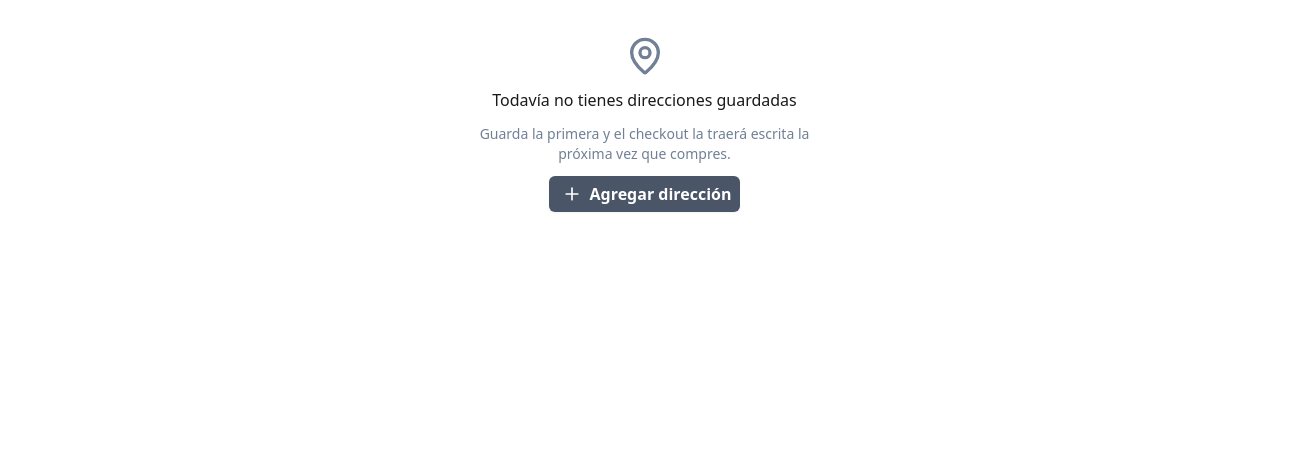
Scenario: AddressBook without saved addresses › refuses to send an address with no street line
Click the button "Agregar dirección".
click(644, 194)  # box [548,176,740,212]
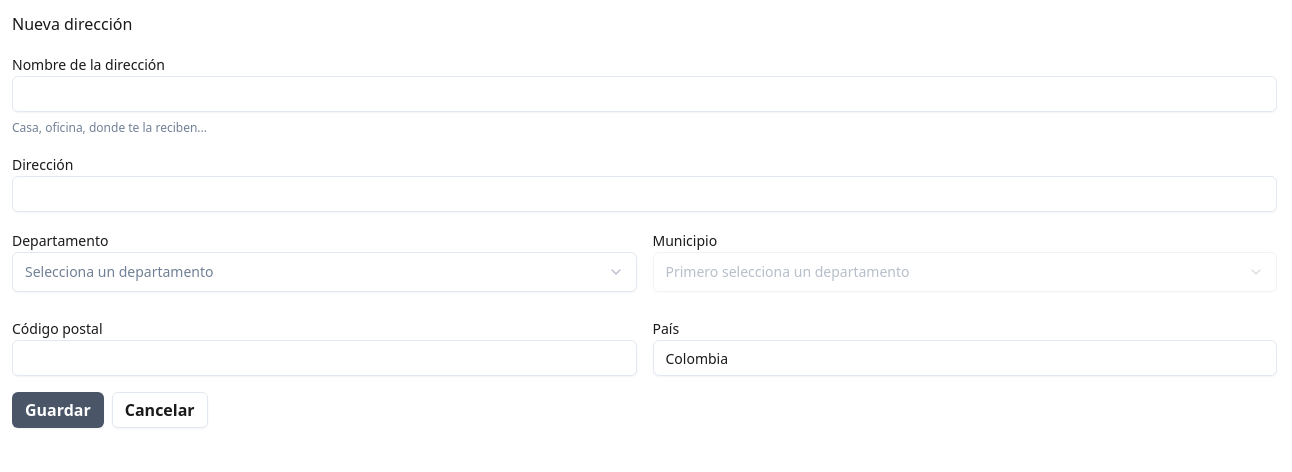
Type "Casa" into the field labelled "Nombre de la dirección".
click(644, 94); type("Casa")  # box [12,76,1277,112]
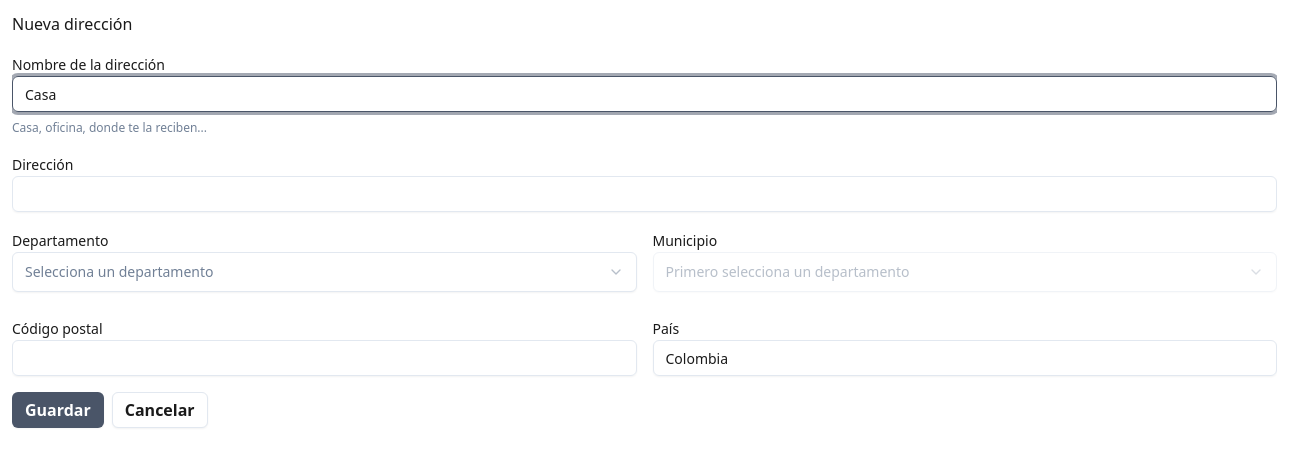
Click the button "Guardar".
click(58, 410)  # box [12,392,104,428]
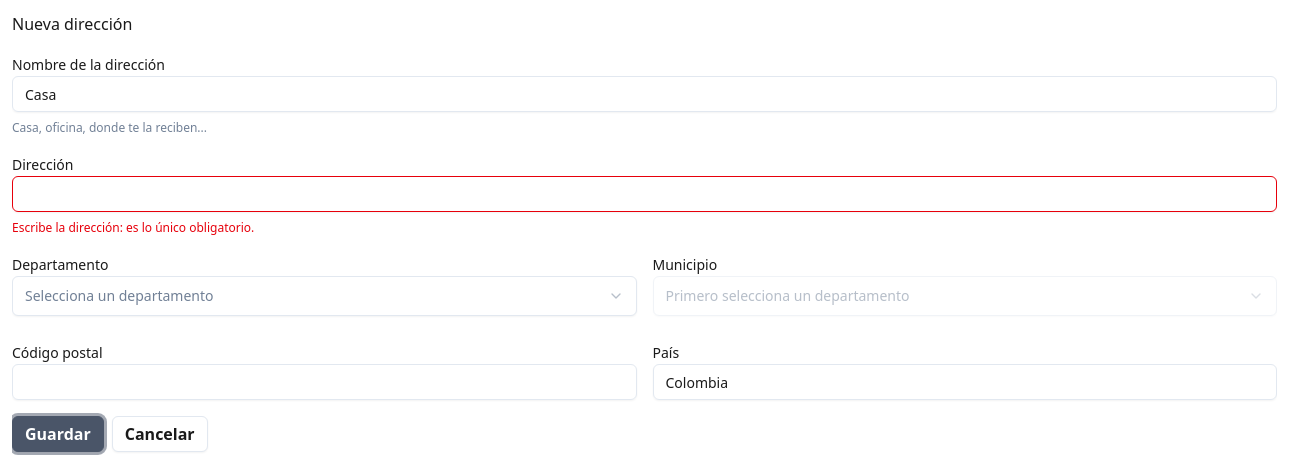
expect the text "Escribe la dirección: es lo único obligatorio." is shown: met, box [12,219,254,236]
